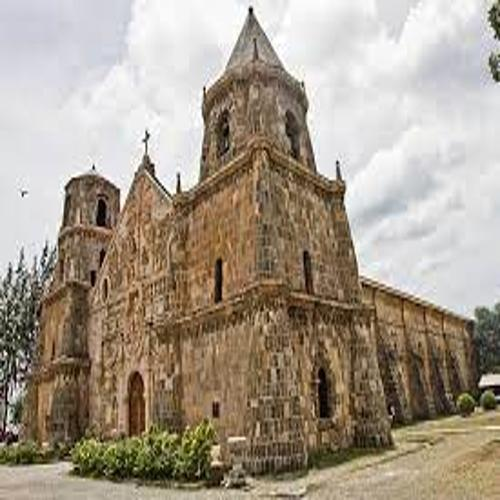Miagao Church: (5, 6, 377, 468)
